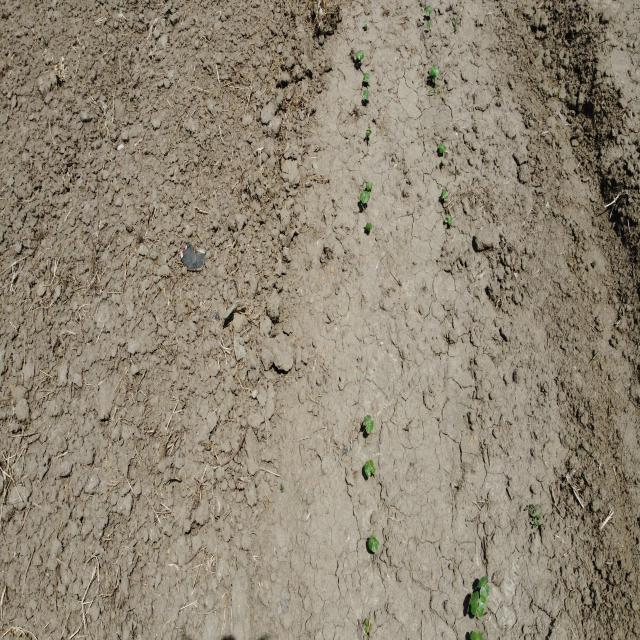seedling_s3: (470, 591, 479, 615), (478, 595, 486, 618), (368, 538, 379, 552), (480, 583, 490, 597), (366, 420, 374, 434), (364, 461, 371, 477), (478, 577, 487, 588), (369, 460, 375, 474), (430, 69, 439, 78), (363, 415, 371, 425), (371, 535, 379, 545), (360, 193, 366, 204), (363, 190, 370, 199), (441, 189, 448, 198), (439, 146, 446, 154), (363, 90, 369, 99), (358, 53, 364, 60), (365, 72, 369, 82), (366, 223, 371, 231), (366, 182, 370, 191), (438, 142, 444, 148), (429, 6, 433, 14), (356, 50, 362, 55), (366, 130, 371, 136), (426, 5, 430, 12), (445, 215, 449, 222), (449, 216, 452, 225), (363, 73, 366, 81), (427, 21, 430, 29), (369, 183, 372, 190), (365, 22, 367, 28)
